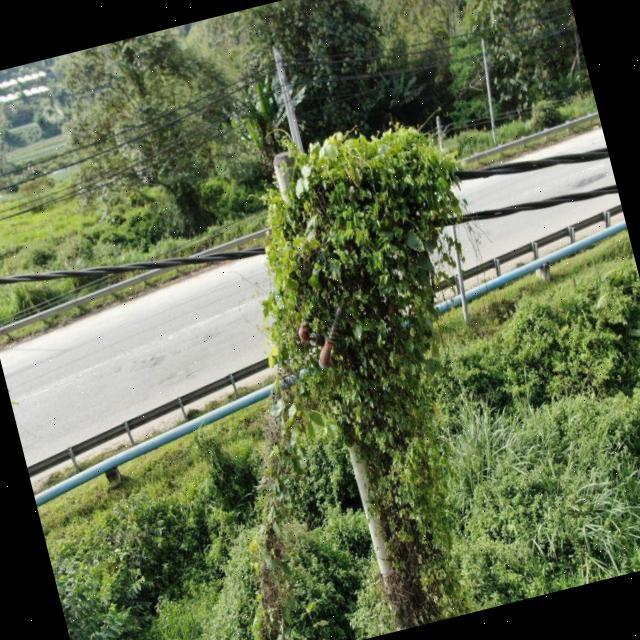critical vegetation: (129, 99, 564, 640)
